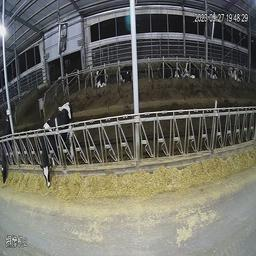cow: (37, 91, 82, 194), (0, 107, 20, 183), (155, 54, 184, 90), (205, 52, 222, 85), (118, 57, 133, 94), (184, 55, 203, 84), (228, 55, 245, 87), (93, 62, 111, 91)
